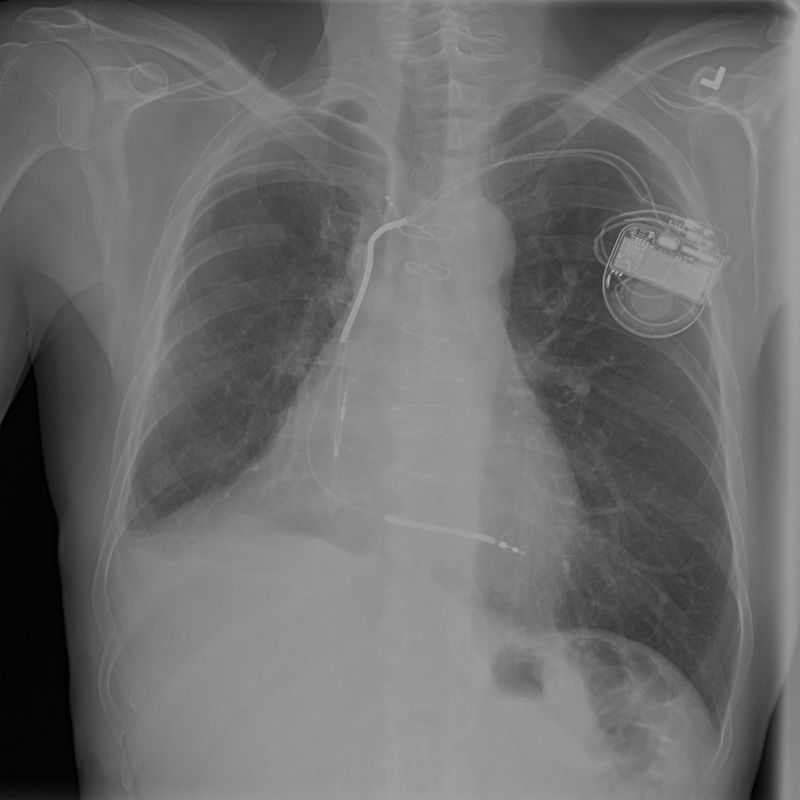PLEURAL EFFUSION: (117, 508, 271, 638)
